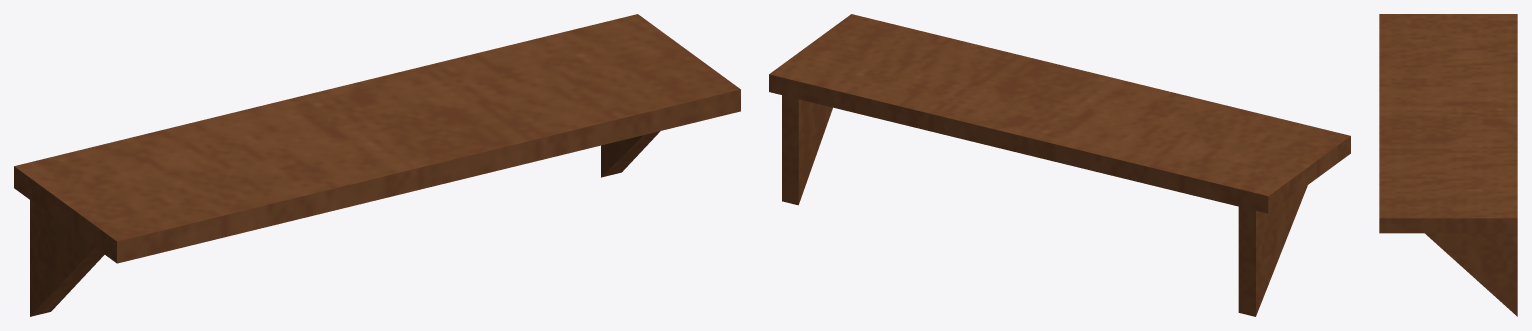
Rendered from Shelf 1.fbx.
The picture shows the model from 3 angles, left to right: view 1: azimuth 30°, elevation 25°; view 2: azimuth 150°, elevation 25°; view 3: azimuth 270°, elevation 25°; orthographic projection. The views are drawn at different scales.
Visible parts, largest first — view 1: G-Object.001; view 2: G-Object.001; view 3: G-Object.001.
Boxes of the visible parts, <box> form: G-Object.001: <box>14,14,740,316</box>; G-Object.001: <box>769,14,1350,316</box>; G-Object.001: <box>1379,14,1517,316</box>.
Size of the model in its own units: 137 by 32.34 by 39.05.
